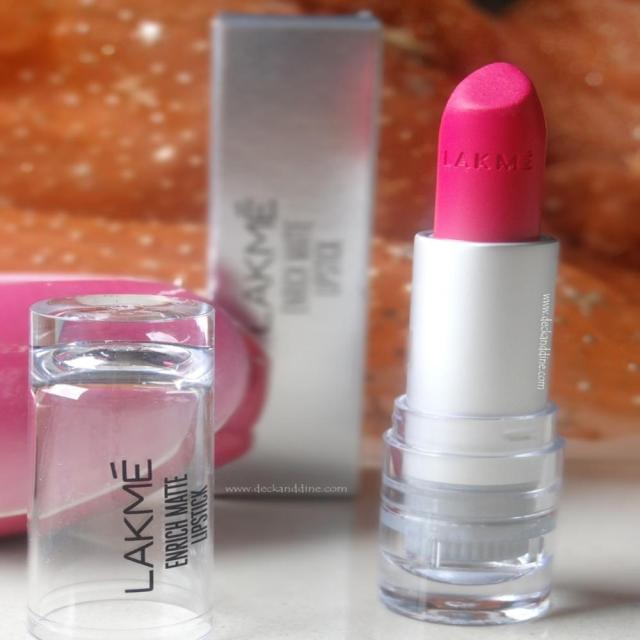lipstick: (352, 37, 590, 638)
